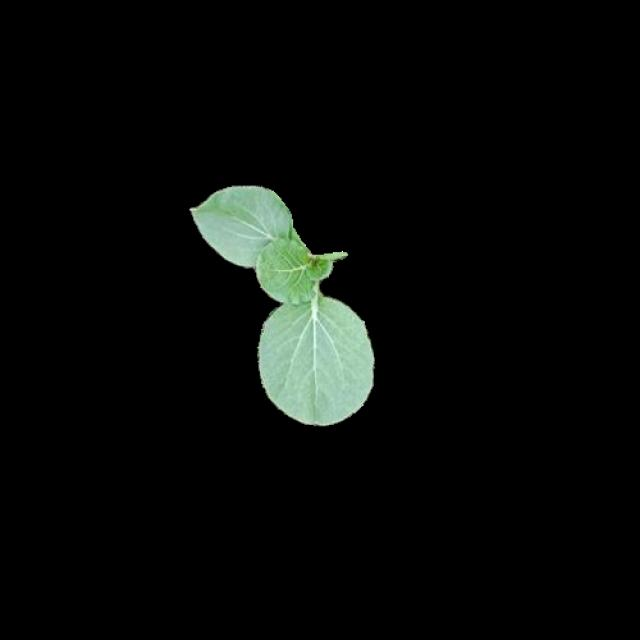healthy: (191, 184, 370, 424)
not-mature: (194, 187, 372, 426)
